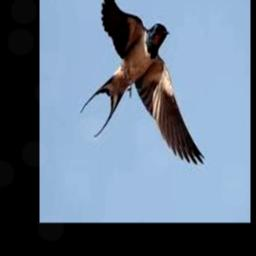Swallow: (80, 0, 206, 163)
